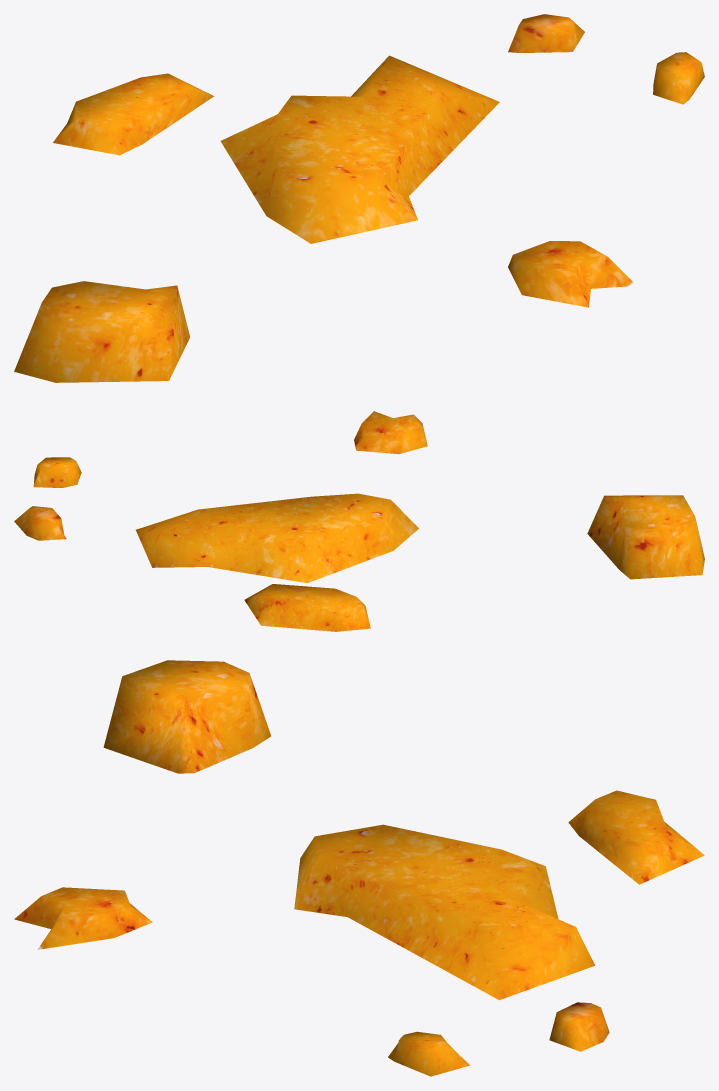
The model's file is nachos_suciedad.fbx.
3 renders of one model, top to bottom at view 1: azimuth 30°, elevation 25°; view 2: azimuth 150°, elevation 25°; view 3: azimuth 270°, elevation 25°, orthographic. The views are drawn at different scales.
Visible parts, largest first — view 1: Cube; view 2: Cube; view 3: Cube.
Part boxes in pixels (bbox=[...]): Cube: bbox=[14, 14, 704, 382]; Cube: bbox=[14, 411, 704, 631]; Cube: bbox=[14, 660, 704, 1076].
Size of the model in its own units: 501 by 37.88 by 370.
1 material, 1 textured.
